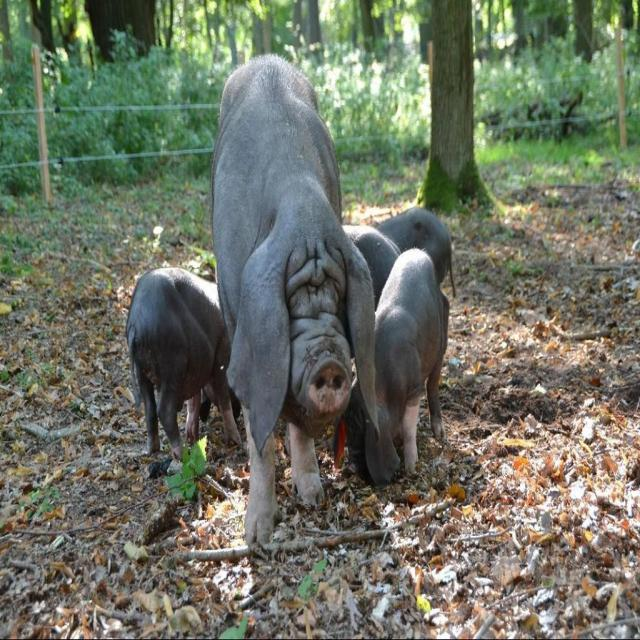Pig: (125, 51, 456, 546)
